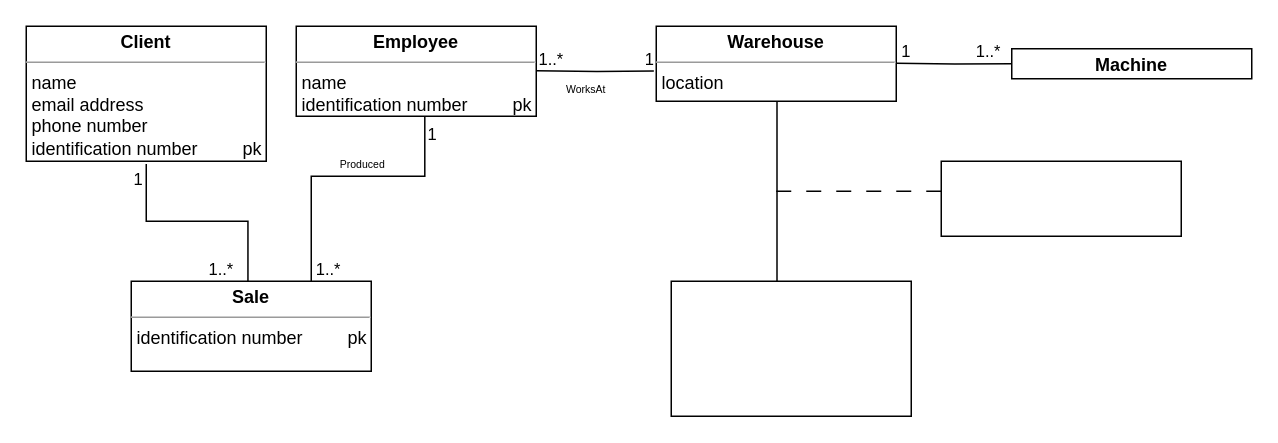
The diagram is 1278 pixels wide and 443 high, and some of its shapes have lost their labels. Each missing label, with the centre of its shape:
Bag reference pk: the point at 790,348
Stock quantity: the point at 1060,198
